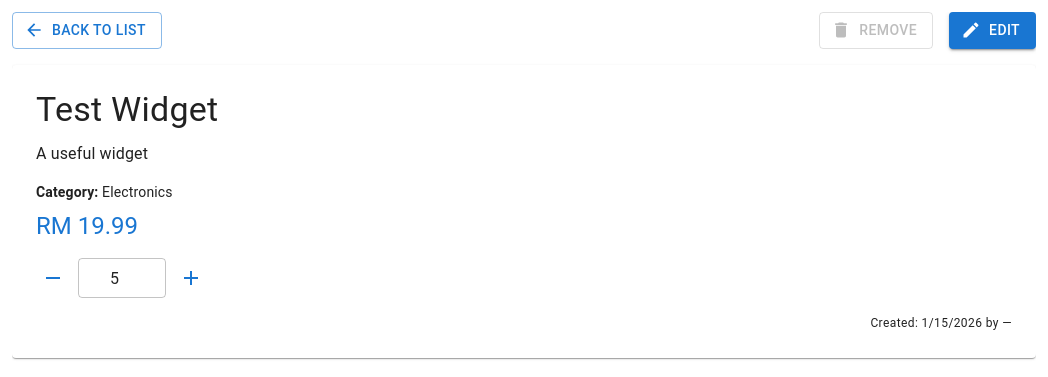
Test: ProductDetailPage › hides "Update" button after decrementing back to original quantity
Expected: the heading "Test Widget" is shown, x1=36 y1=88 x2=218 y2=128
What coordinates should you click on to do the following:
click the button named "increase quantity"
I would click on:
 (191, 278)
Its box is x1=174 y1=261 x2=208 y2=295.
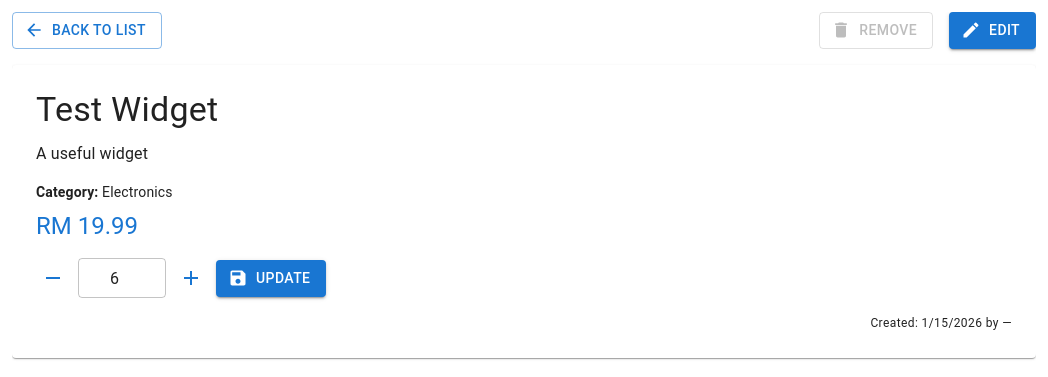
What coordinates should you click on to do the following:
click the button named "decrease quantity"
I would click on:
 (53, 278)
Its box is x1=36 y1=261 x2=70 y2=295.
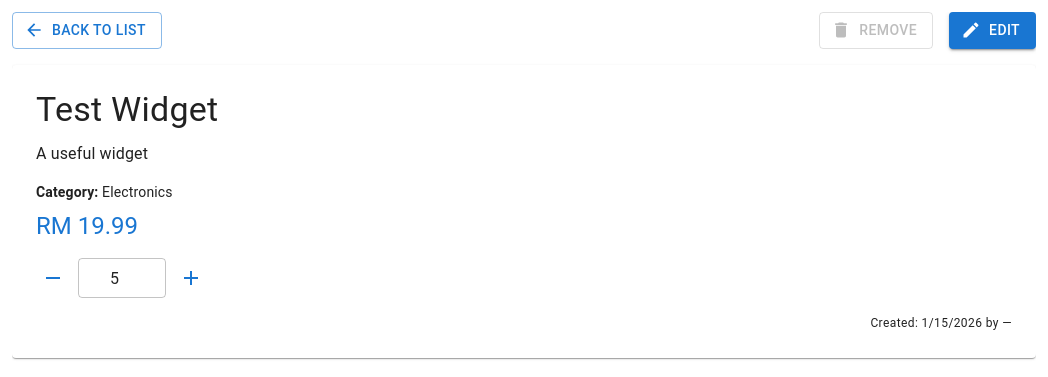
Result: the button "Update" is gone
